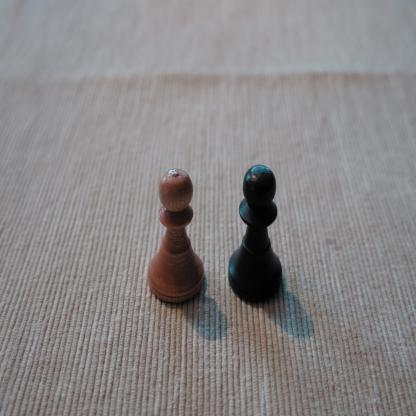black-pawn: (228, 163, 283, 304)
white-pawn: (146, 166, 206, 307)
